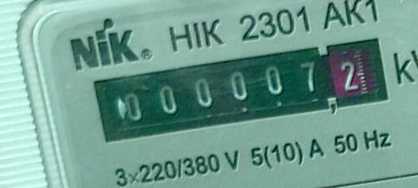0: (190, 73, 218, 114), (120, 88, 147, 125), (261, 61, 287, 99), (227, 68, 252, 107), (157, 81, 181, 118)
2: (337, 57, 363, 96)
7: (297, 57, 323, 97)
screen: (87, 30, 399, 151)
